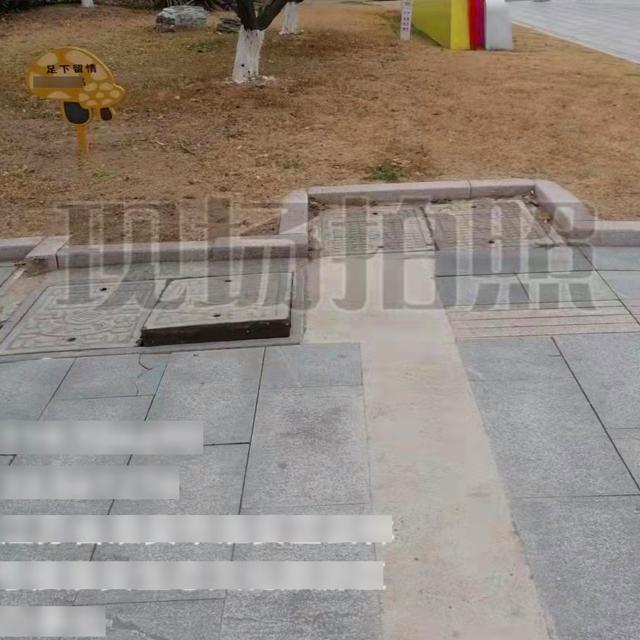uncovered: (0, 275, 308, 354)
